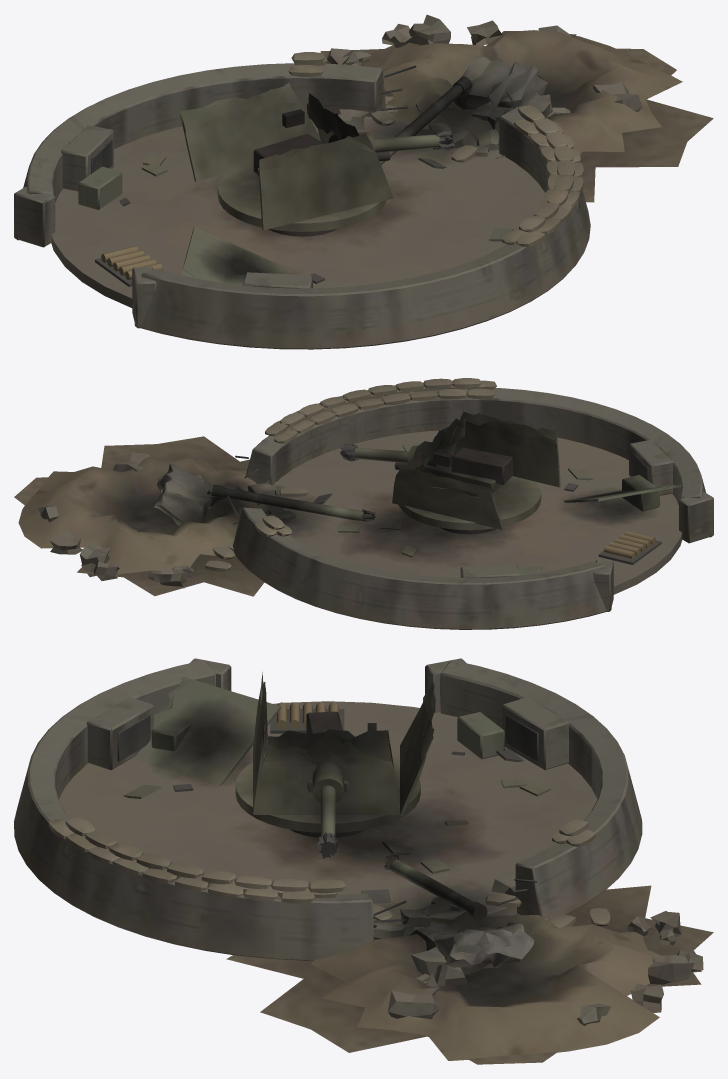
Rendered from a01_battery_gun_broken.glb.
3 renders of one model, top to bottom at view 1: azimuth 30°, elevation 25°; view 2: azimuth 150°, elevation 25°; view 3: azimuth 270°, elevation 25°, orthographic. The views are drawn at different scales.
Parts seen in each view (by area): view 1: body.001; view 2: body.001; view 3: body.001.
Boxes of the visible parts, <box> form: body.001: <box>14,14,713,349</box>; body.001: <box>14,378,713,629</box>; body.001: <box>14,658,713,1064</box>.
Bounding box in the file's own units: 1.31 × 0.2223 × 1.08.
1 material, 1 textured.
